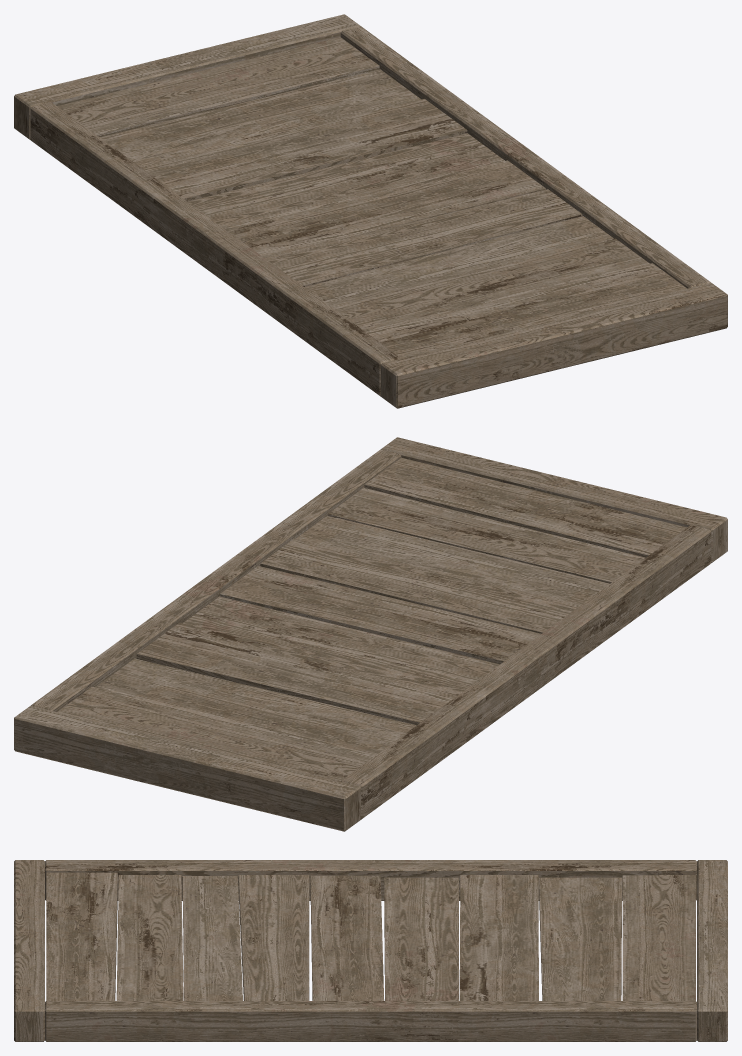
The model's file is SM_GPG_Ceiling.fbx.
3 views of the same model, one above another, from view 1: azimuth 30°, elevation 25°; view 2: azimuth 150°, elevation 25°; view 3: azimuth 270°, elevation 25° (orthographic). The views are drawn at different scales.
Visible parts, largest first — view 1: SM_GPG_Ceiling; view 2: SM_GPG_Ceiling; view 3: SM_GPG_Ceiling.
Part boxes in pixels (box(x1,y1,x2,y2)): SM_GPG_Ceiling: box(14, 14, 727, 408); SM_GPG_Ceiling: box(14, 437, 727, 831); SM_GPG_Ceiling: box(14, 860, 727, 1041).
Size of the model in its own units: 150 by 300 by 15.
1 material, 1 textured.
